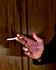Cigarette: (7, 36, 22, 41)
